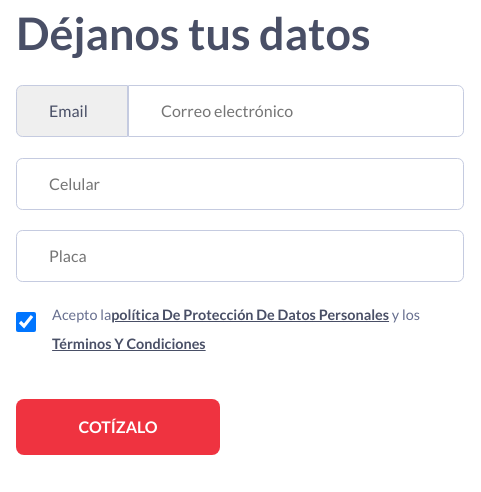
invalid email
Type "fake.email@aaa" into the field with placeholder "Correo electrónico" at (296, 111), box x1=128 y1=85 x2=464 y2=137
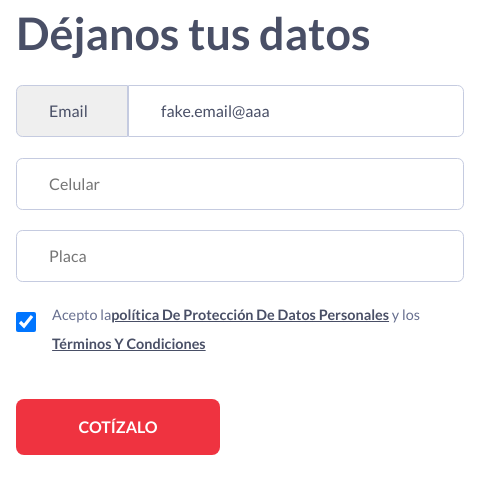
Type "999222333" into the field with placeholder "Celular" at (240, 184), box x1=16 y1=158 x2=464 y2=210
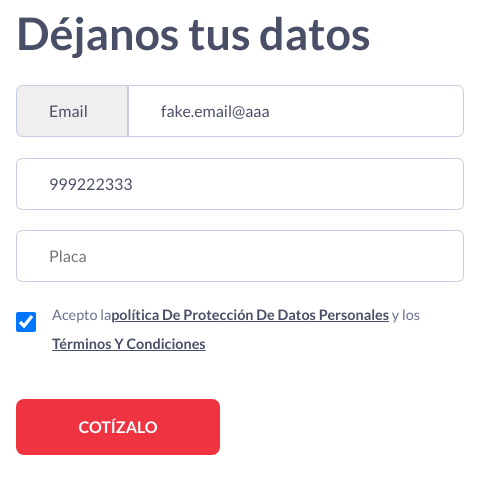
Type "ABC-123" into the field with placeholder "Placa" at (240, 256), box x1=16 y1=230 x2=464 y2=282
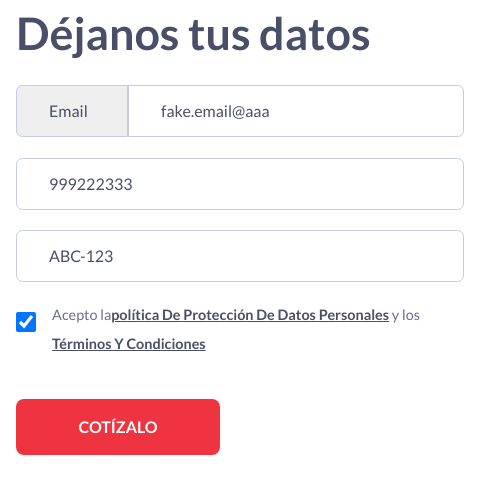
Click the button "Cotízalo" at (118, 427), box x1=16 y1=399 x2=220 y2=456
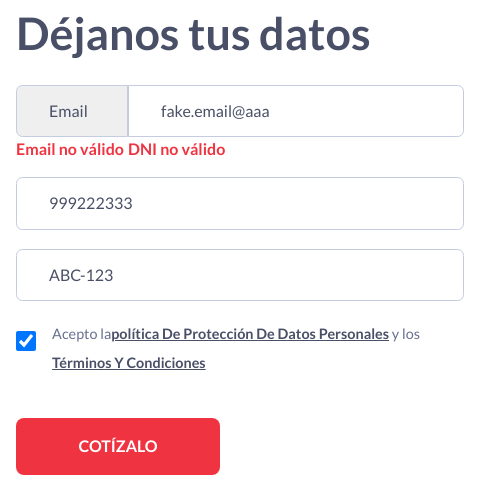
expect the text "Email no válido" is shown: met, box x1=16 y1=139 x2=128 y2=158
